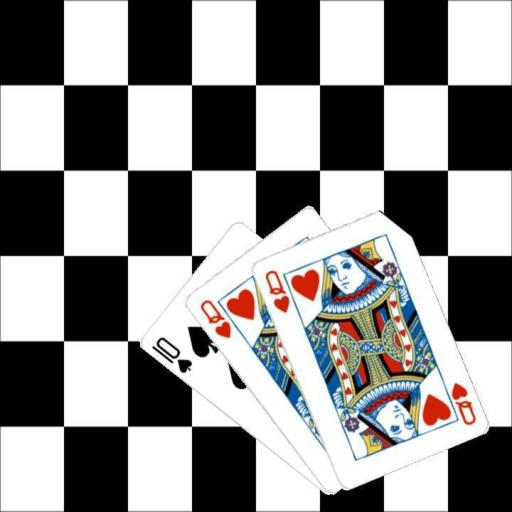card-corner: (438, 377, 477, 427), (148, 334, 193, 376), (196, 296, 233, 340), (261, 266, 291, 314)
